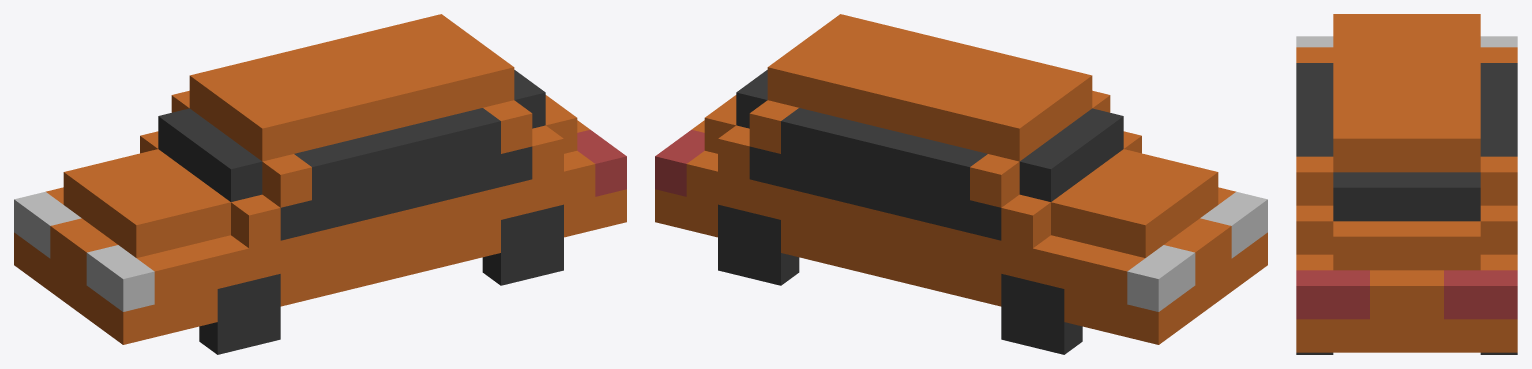
File: car-v4-orange.gltf
3 views of the same model, side by side, from view 1: azimuth 30°, elevation 25°; view 2: azimuth 150°, elevation 25°; view 3: azimuth 270°, elevation 25° (orthographic).
Parts seen in each view (by area): view 1: model, wheels; view 2: model, wheels; view 3: model, wheels.
Boxes of the visible parts, box(x1,y1,x2,y2) form: model: box(14, 14, 626, 344); wheels: box(199, 204, 563, 354); model: box(655, 14, 1267, 344); wheels: box(718, 204, 1082, 354); model: box(1296, 14, 1517, 352); wheels: box(1296, 352, 1517, 354).
Bounding box in the file's own units: 1.6 × 0.6 × 0.6.
Materials: 2 (2 with a texture image).
